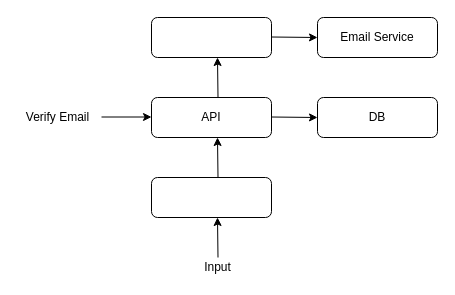
The diagram is 455 pixels wide and 295 high, and some of its shapes have lost their labels. The box of each missing label's shape, as (x1, y1, x2, y2) in pixels:
Frontend: (150, 176, 272, 218)
Redis: (150, 16, 272, 58)
